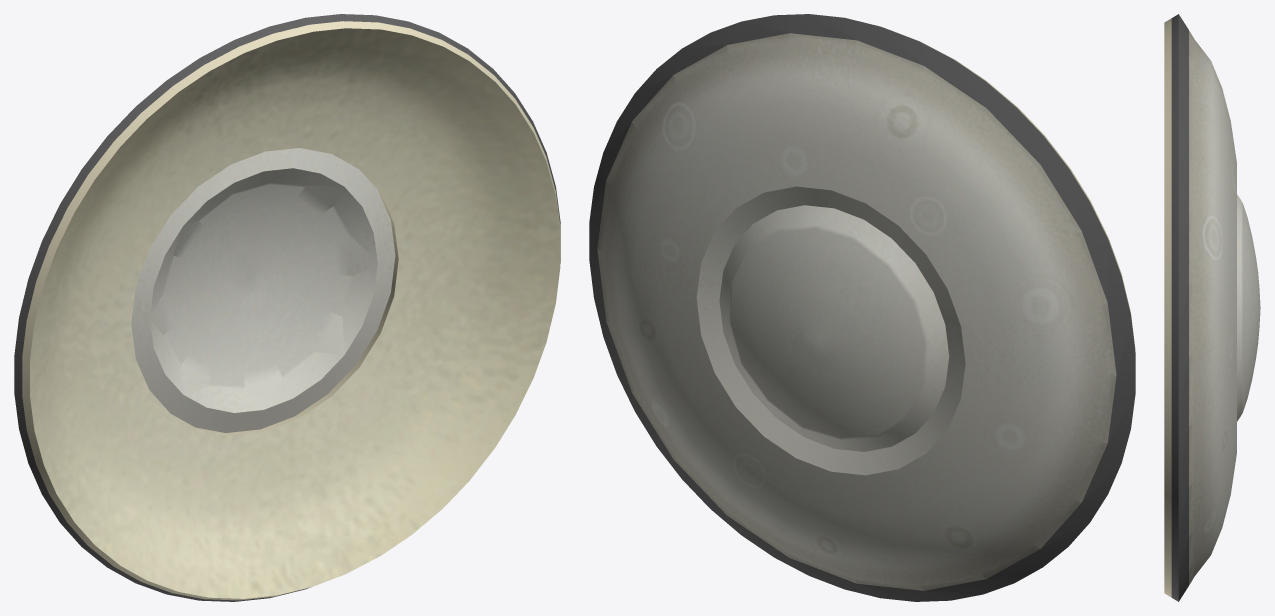
The model's file is nt_2020_kitchen_light_01_LOD0.obj.
3 views of the same model, side by side, from view 1: azimuth 30°, elevation 25°; view 2: azimuth 150°, elevation 25°; view 3: azimuth 270°, elevation 25° (orthographic). The views are drawn at different scales.
Parts seen in each view (by area): view 1: glass_frosted_lit, mtl_nt_2020_kitchen_light_glass, nt_2020_metal_chrome; view 2: mtl_nt_2020_kitchen_light_glass, nt_2020_metal_chrome; view 3: mtl_nt_2020_kitchen_light_glass, nt_2020_metal_chrome, glass_frosted_lit.
Part boxes in pixels (box(x1,y1,x2,y2)): glass_frosted_lit: box(22, 21, 560, 600); mtl_nt_2020_kitchen_light_glass: box(131, 148, 395, 432); nt_2020_metal_chrome: box(14, 14, 560, 601); mtl_nt_2020_kitchen_light_glass: box(597, 33, 1116, 590); nt_2020_metal_chrome: box(589, 14, 1135, 601); mtl_nt_2020_kitchen_light_glass: box(1189, 30, 1260, 585); nt_2020_metal_chrome: box(1171, 14, 1188, 601); glass_frosted_lit: box(1164, 18, 1171, 597).
Size of the model in its own units: 408 by 408 by 66.84.
